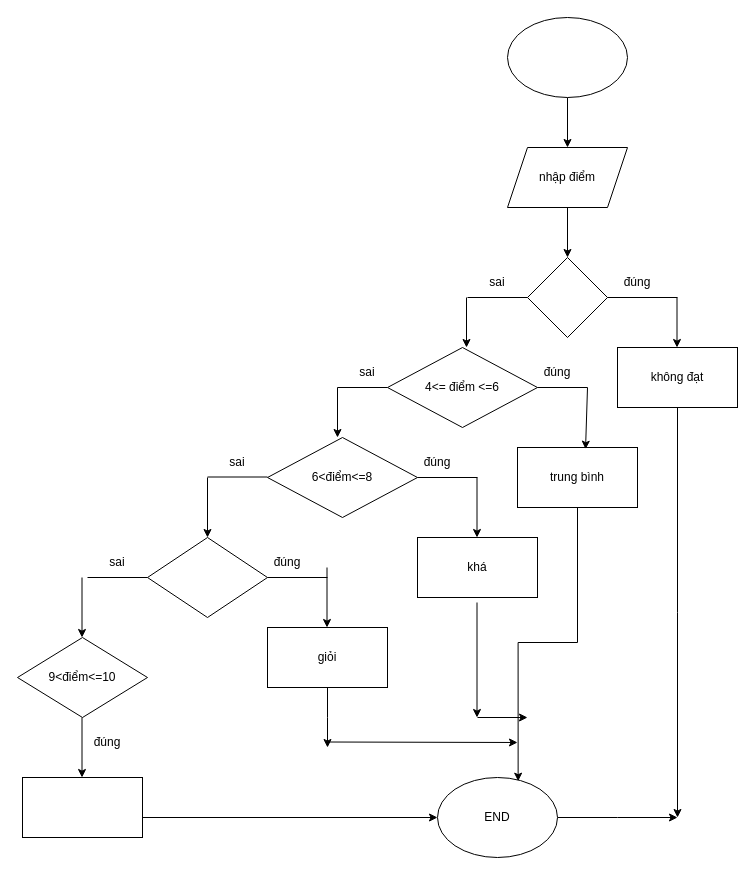
Image size: 755x875. Some labels were removed from this diagram. Each missing label, with the centre of its shape:
8<điểm<=9: (x=207, y=577)
START: (x=567, y=57)
xuất sắc: (x=82, y=807)
điểm <4: (x=567, y=297)
